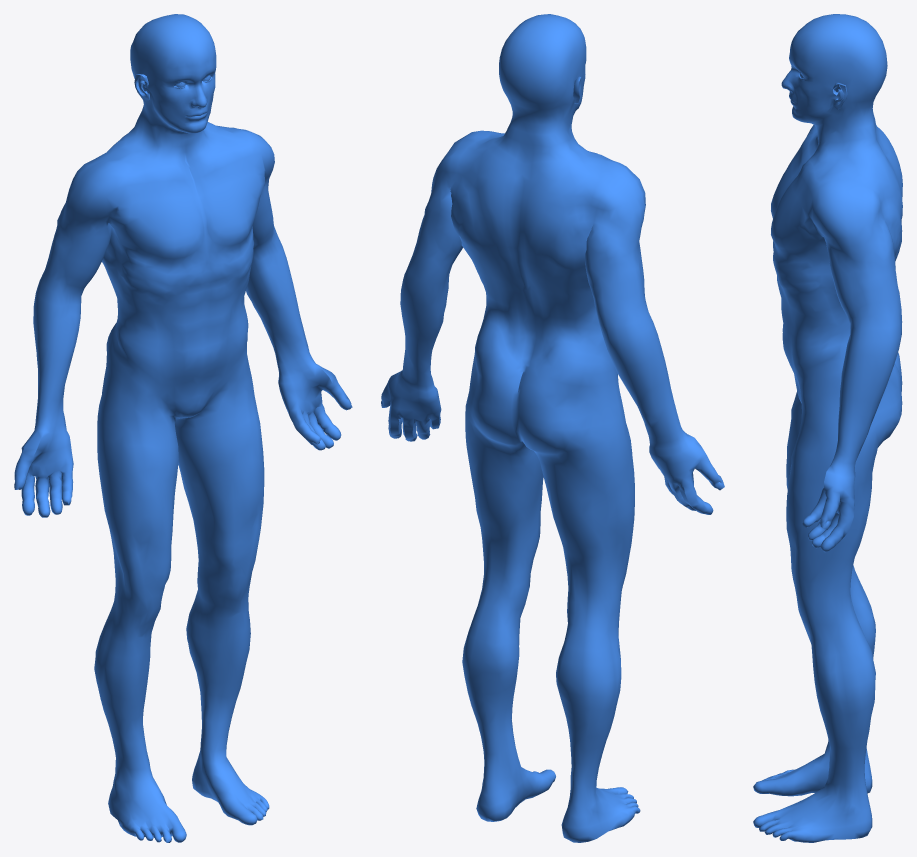
Rendered from Anatomy_Man_Silhouette.obj.
3 views of the same model, side by side, from view 1: azimuth 30°, elevation 25°; view 2: azimuth 150°, elevation 25°; view 3: azimuth 270°, elevation 25° (orthographic).
Parts seen in each view (by area): view 1: Man_Silhouette; view 2: Man_Silhouette; view 3: Man_Silhouette.
Boxes of the visible parts, box(x1,y1,x2,y2) form: Man_Silhouette: box(14, 14, 352, 842); Man_Silhouette: box(381, 14, 724, 842); Man_Silhouette: box(753, 14, 902, 842).
Size of the model in its own units: 80.27 by 179 by 30.6.
